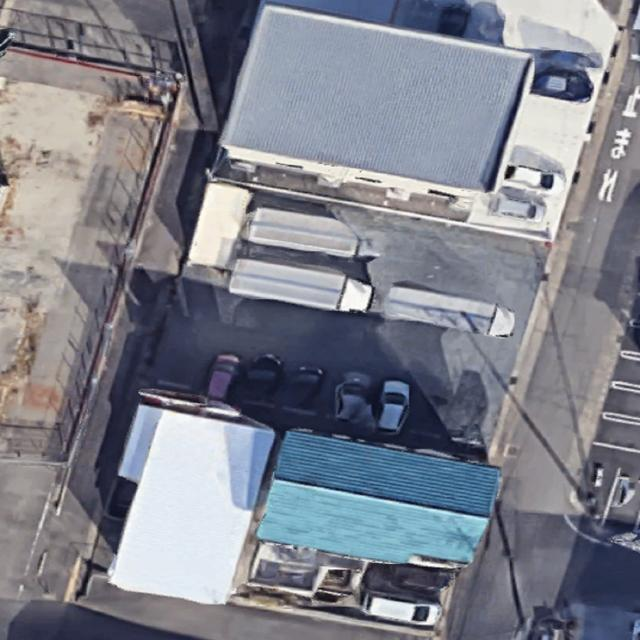Batiment: (221, 5, 530, 190), (112, 390, 275, 604), (257, 431, 500, 562)
